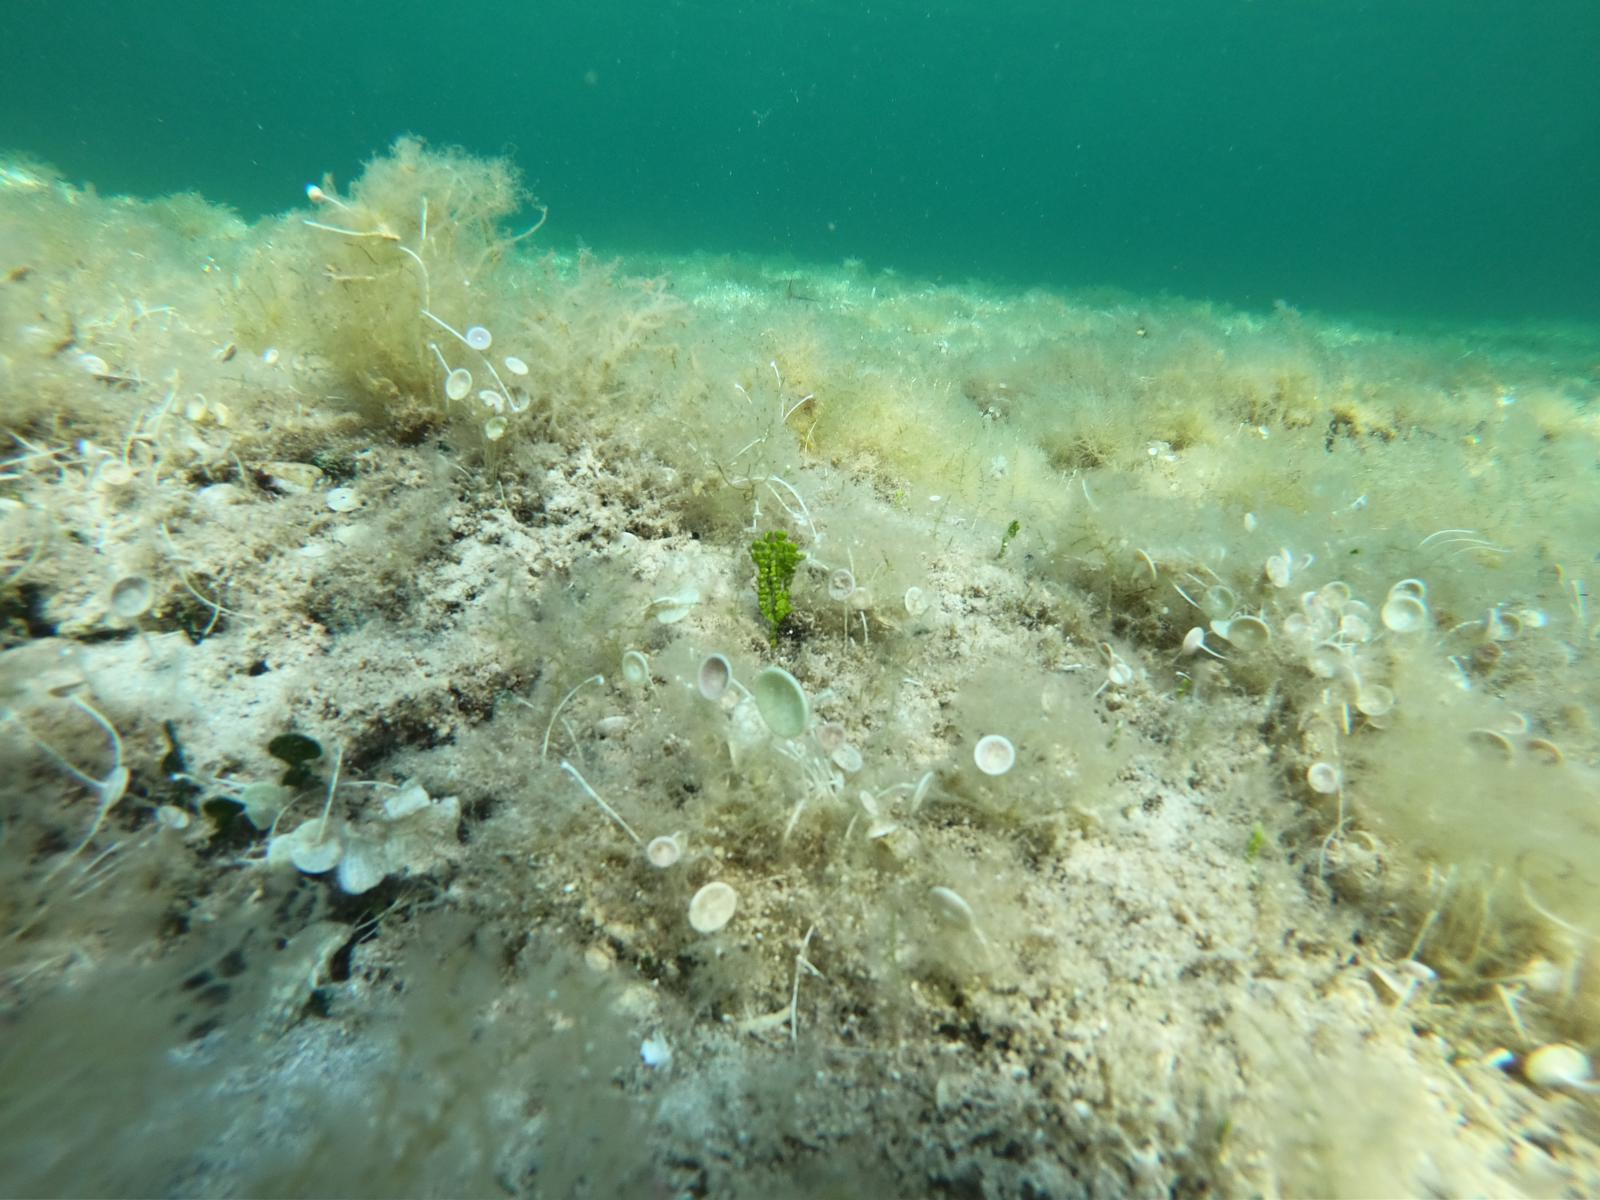halimeda: (747, 524, 804, 645)
